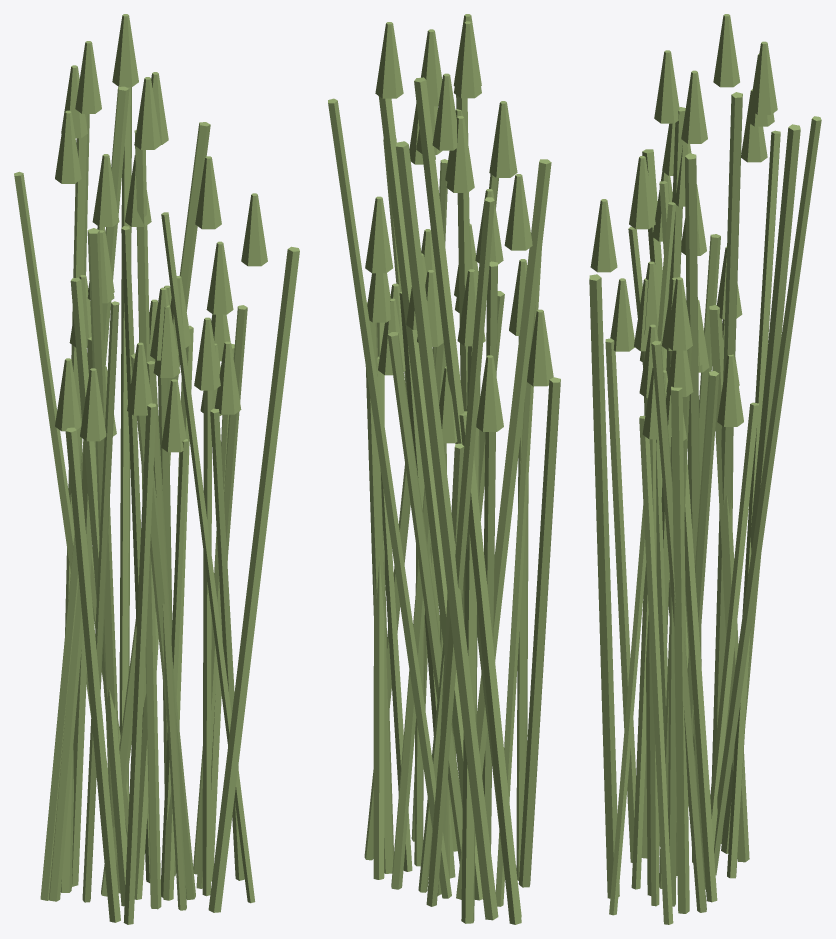
Rendered from reed_clump.glb.
3 renders of one model, left to right at view 1: azimuth 30°, elevation 25°; view 2: azimuth 150°, elevation 25°; view 3: azimuth 270°, elevation 25°, orthographic. The views are drawn at different scales.
Visible parts, largest first — view 1: reed_clump; view 2: reed_clump; view 3: reed_clump.
Boxes of the visible parts, x1,y1,x2,y2 form: reed_clump: [14, 14, 299, 924]; reed_clump: [328, 14, 560, 924]; reed_clump: [589, 14, 821, 924].
Size of the model in its own units: 0.6908 by 2.78 by 0.6901.
